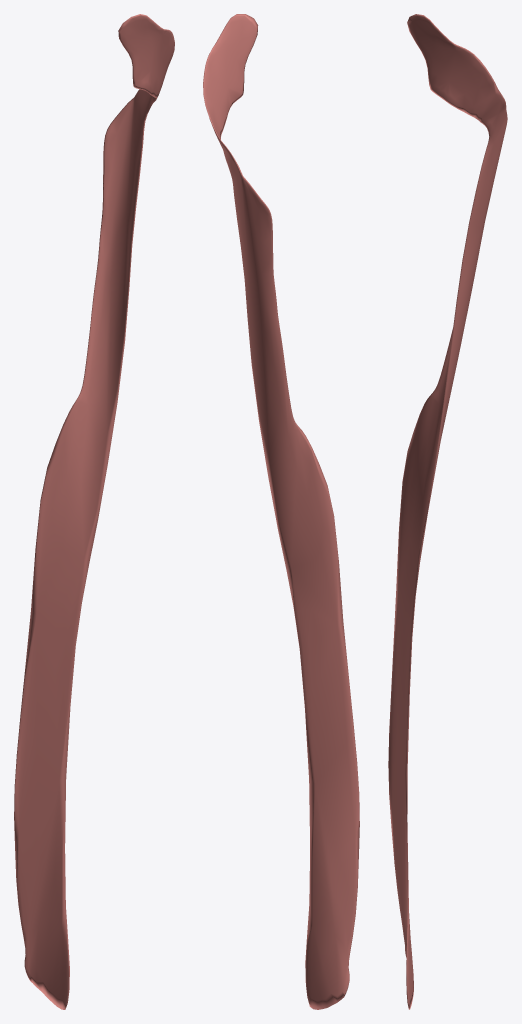
The picture shows the model from 3 angles, left to right: view 1: azimuth 30°, elevation 25°; view 2: azimuth 210°, elevation 25°; view 3: azimuth 330°, elevation 25°; orthographic projection. The views are drawn at different scales.
Visible parts, largest first — view 1: ZA_b09b1bcea48d068f; view 2: ZA_b09b1bcea48d068f; view 3: ZA_b09b1bcea48d068f.
Boxes of the visible parts, x1,y1,x2,y2 form: ZA_b09b1bcea48d068f: [14, 14, 174, 1009]; ZA_b09b1bcea48d068f: [203, 14, 359, 1009]; ZA_b09b1bcea48d068f: [388, 14, 507, 1009].
Bounding box in the file's own units: 0.0425 × 0.3118 × 0.0291.
